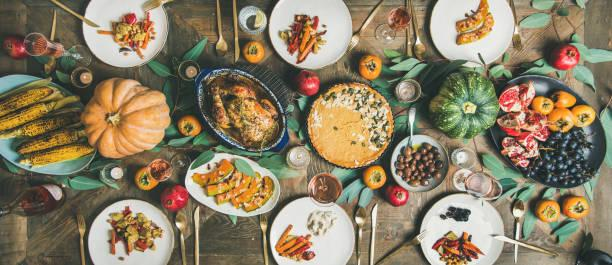Braised Crucian Carp: (486, 75, 604, 187), (0, 73, 94, 174), (194, 64, 292, 153), (306, 81, 397, 168), (185, 150, 281, 216), (418, 193, 507, 264), (86, 198, 174, 264), (429, 0, 517, 66), (269, 197, 355, 264), (268, 0, 351, 69), (82, 0, 167, 67), (390, 129, 449, 200), (355, 198, 375, 263)
